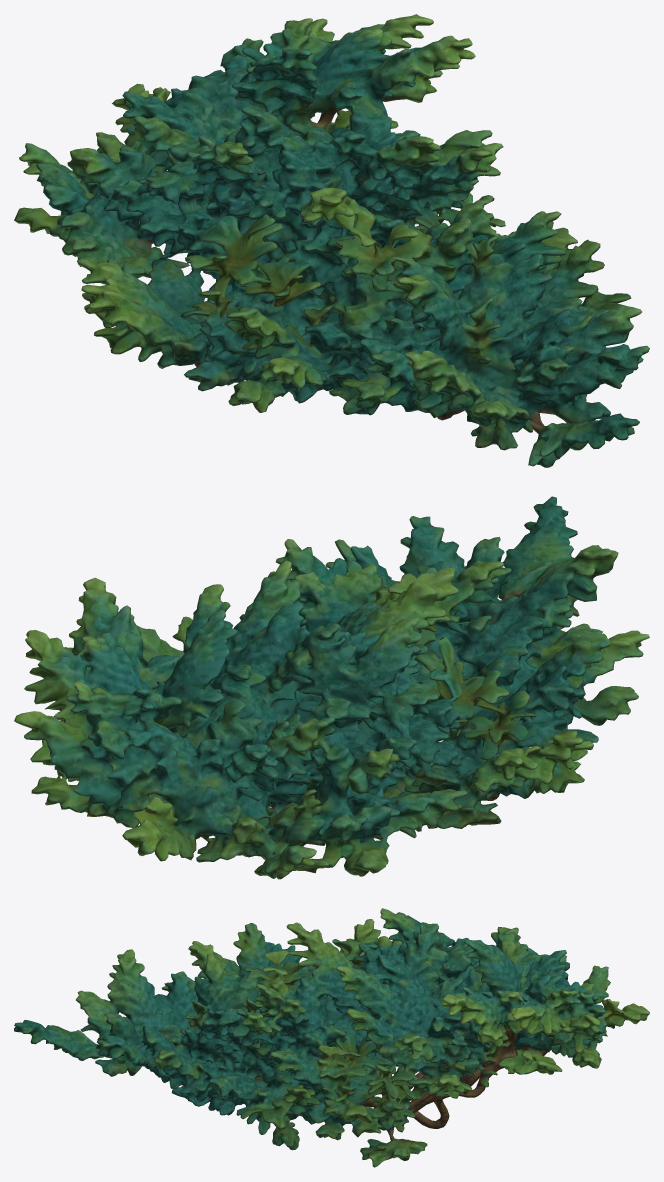
The model's file is mountain-cushion-shrub.glb.
3 renders of one model, top to bottom at view 1: azimuth 30°, elevation 25°; view 2: azimuth 150°, elevation 25°; view 3: azimuth 270°, elevation 25°, orthographic. The views are drawn at different scales.
Size of the model in its own units: 0.5937 by 0.3188 by 0.9969.
Materials: 1 (1 with a texture image).
